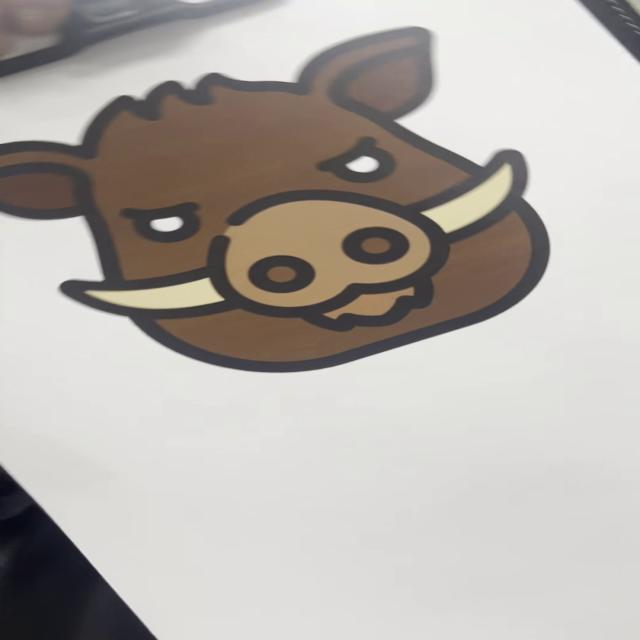animal: (1, 19, 562, 380)
